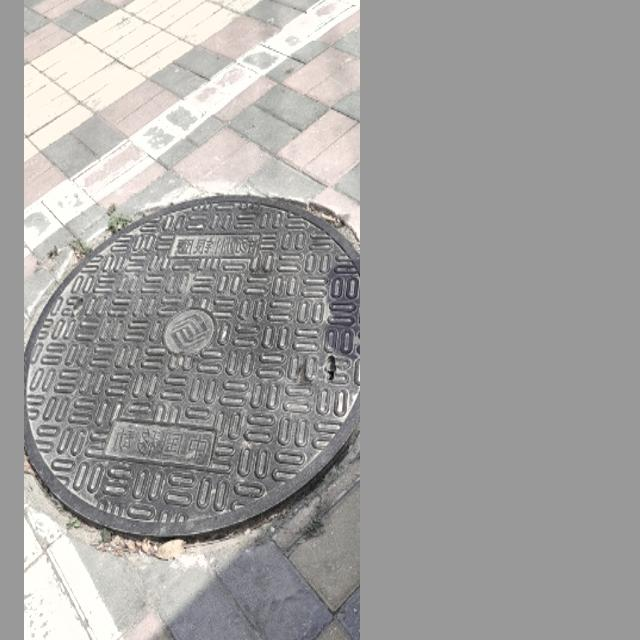good: (24, 192, 358, 535)
